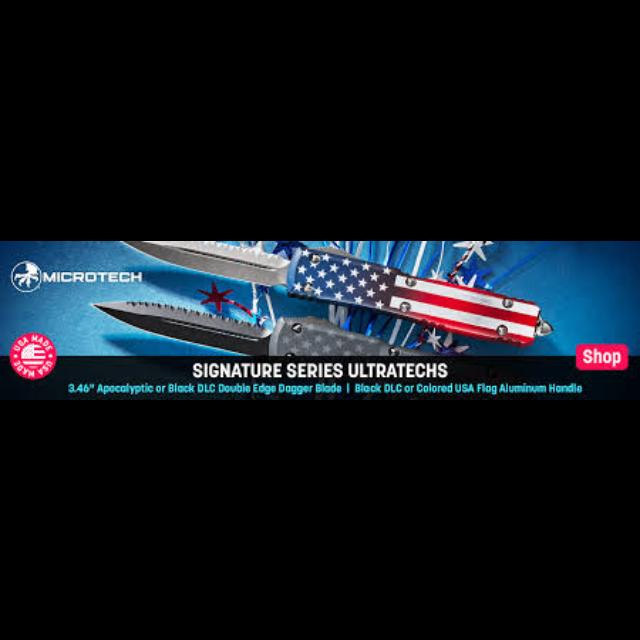knife: (119, 240, 554, 346), (91, 299, 436, 355)
